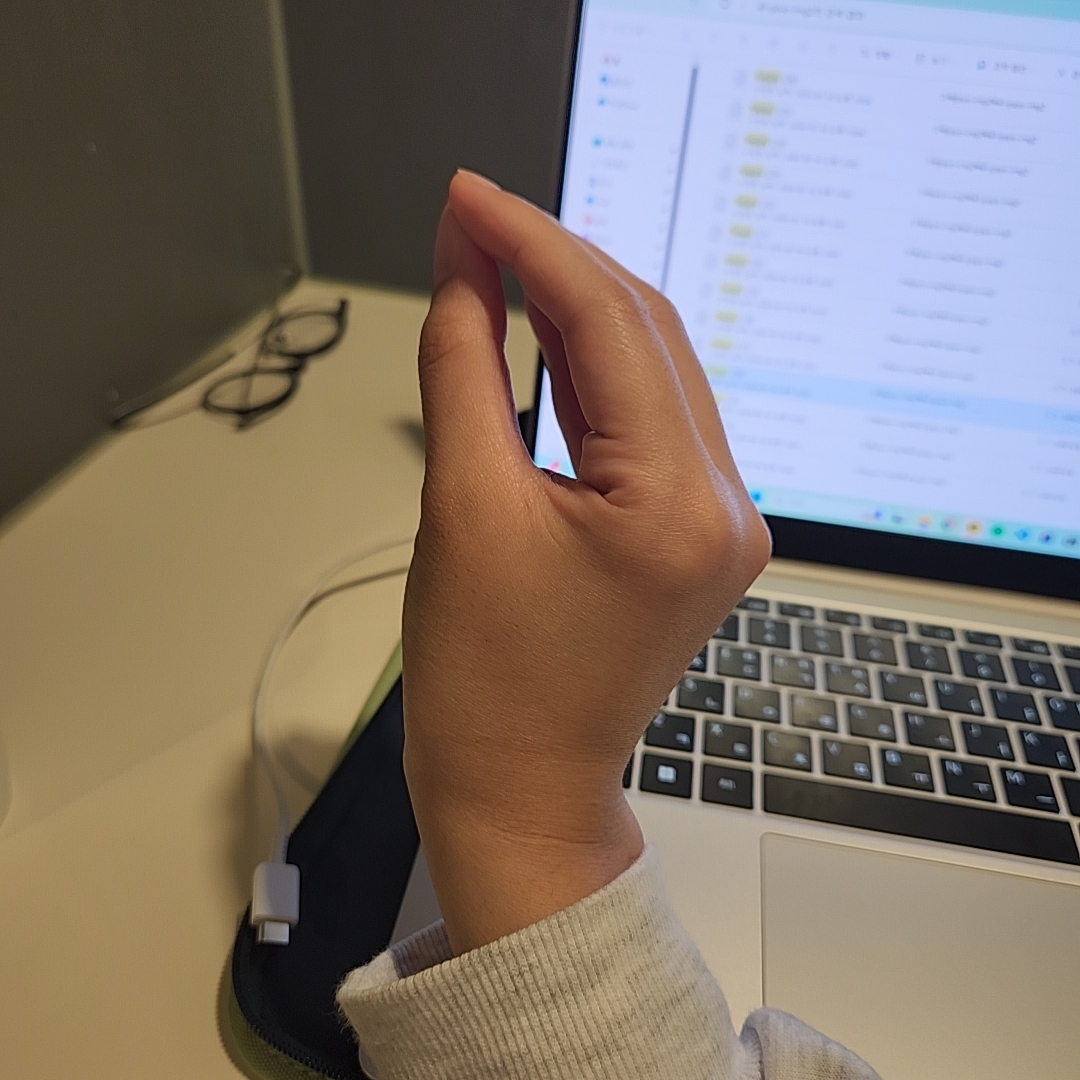happy: (396, 166, 773, 793)
